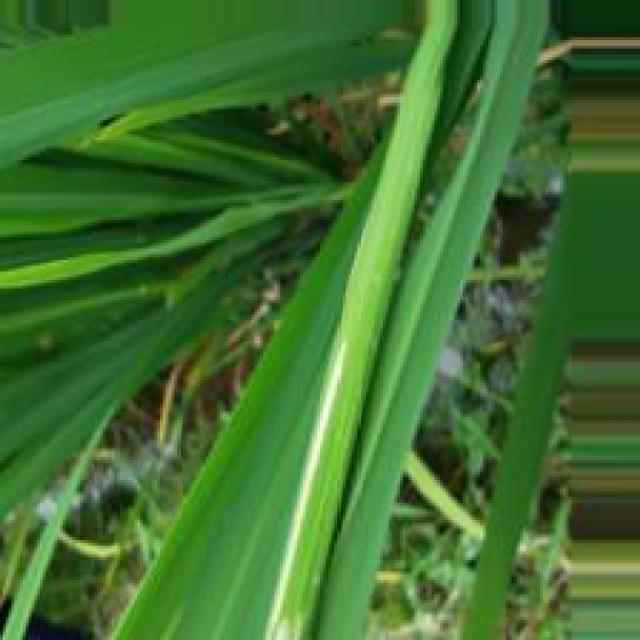Rice_Hispa: (262, 335, 349, 638)
